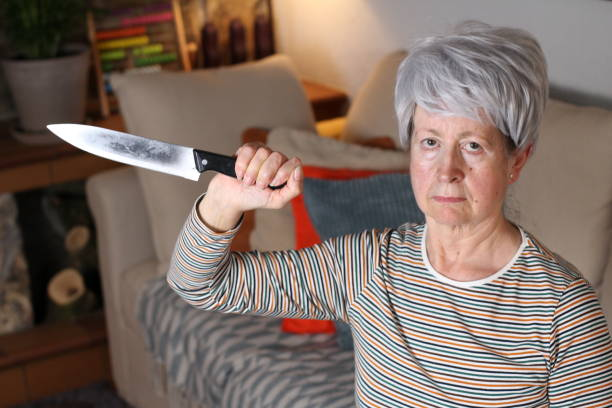knife: (44, 121, 289, 190)
